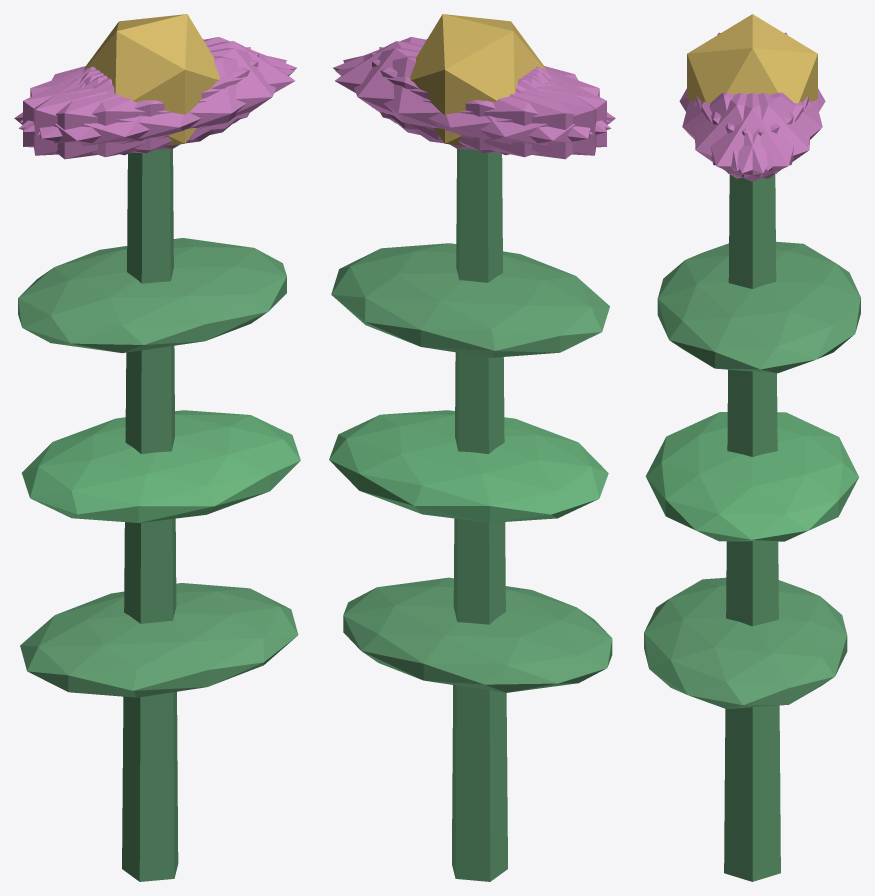
The model's file is polycarpon-tetraphyllum.glb.
3 renders of one model, left to right at view 1: azimuth 30°, elevation 25°; view 2: azimuth 150°, elevation 25°; view 3: azimuth 270°, elevation 25°, orthographic.
Visible parts, largest first — view 1: stem, leaf0, leaf1, leaf2, center, petal1, petal6, petal2, petal5, petal7, petal0, petal4 (+2 smaller); view 2: stem, leaf2, leaf1, leaf0, center, petal8, petal3, petal7, petal4, petal2, petal0, petal5 (+2 smaller); view 3: stem, leaf1, leaf2, leaf0, center, petal0, petal5, petal4, petal8, petal1.
Boxes of the visible parts, x1,y1,x2,y2 form: stem: [122, 149, 178, 881]; leaf0: [20, 583, 298, 697]; leaf1: [22, 410, 300, 522]; leaf2: [18, 238, 286, 353]; center: [84, 14, 219, 145]; petal1: [19, 56, 294, 157]; petal6: [14, 68, 213, 159]; petal2: [33, 47, 250, 155]; petal5: [37, 48, 286, 150]; petal7: [23, 53, 258, 153]; petal0: [83, 41, 294, 140]; petal4: [20, 37, 296, 132]; stem: [452, 148, 507, 881]; leaf2: [331, 243, 609, 357]; leaf1: [329, 410, 608, 522]; leaf0: [343, 577, 612, 692]; center: [410, 14, 546, 145]; petal8: [335, 56, 611, 157]; petal3: [416, 68, 615, 159]; petal7: [379, 47, 596, 155]; petal4: [343, 48, 592, 150]; petal2: [371, 53, 606, 153]; petal0: [335, 41, 546, 140]; petal5: [333, 37, 609, 132]; stem: [724, 174, 780, 881]; leaf1: [645, 412, 858, 541]; leaf2: [657, 241, 860, 373]; leaf0: [644, 577, 847, 708]; center: [687, 14, 817, 103]; petal0: [696, 93, 808, 181]; petal5: [694, 93, 803, 178]; petal4: [701, 93, 810, 178]; petal8: [711, 92, 822, 170]; petal1: [682, 92, 793, 170].
Bounding box in the file's own units: 0.1452 × 0.433 × 0.1015.
